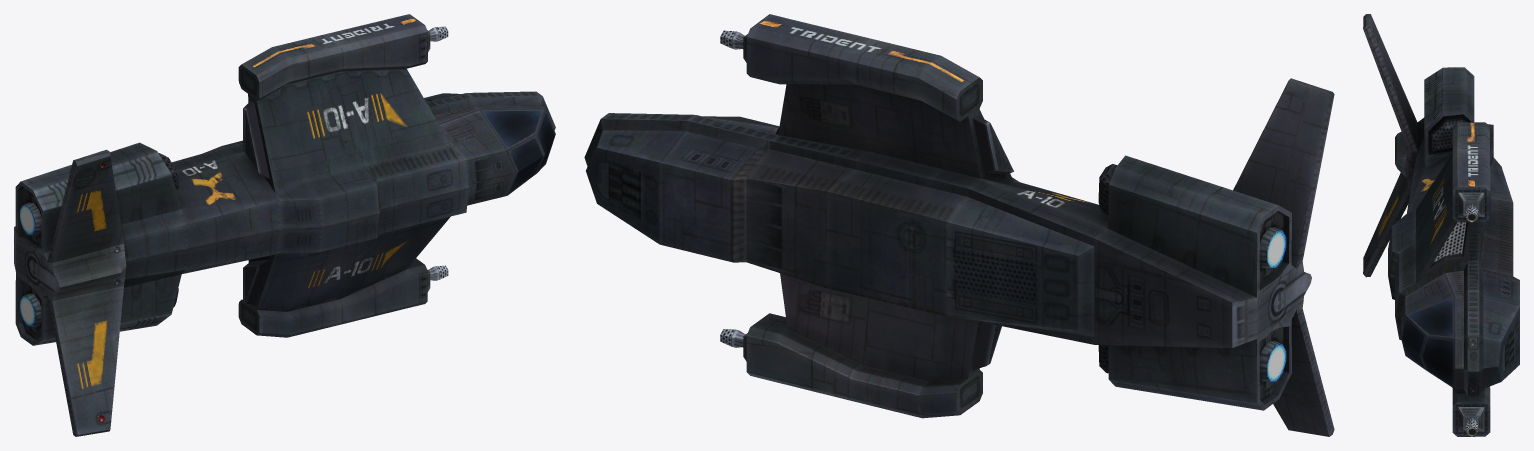
File: Trident-A10.glb
3 views of the same model, side by side, from view 1: azimuth 30°, elevation 25°; view 2: azimuth 150°, elevation 25°; view 3: azimuth 270°, elevation 25° (orthographic). The views are drawn at different scales.
Parts seen in each view (by area): view 1: Trident_Space_Fighter; view 2: Trident_Space_Fighter; view 3: Trident_Space_Fighter.
Boxes of the visible parts, x1,y1,x2,y2 form: Trident_Space_Fighter: (14,14,555,436); Trident_Space_Fighter: (584,14,1334,436); Trident_Space_Fighter: (1363,14,1519,436).
Size of the model in its own units: 2058 by 1023 by 580.
1 material, 1 textured.
